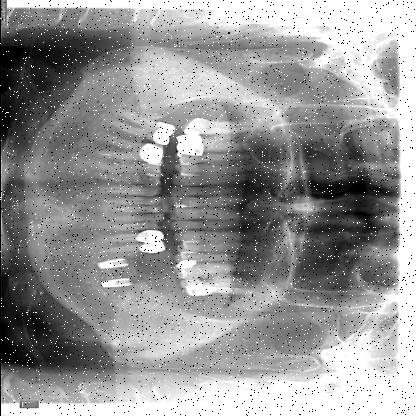Bicon: (90, 254, 132, 271), (98, 277, 136, 289)
